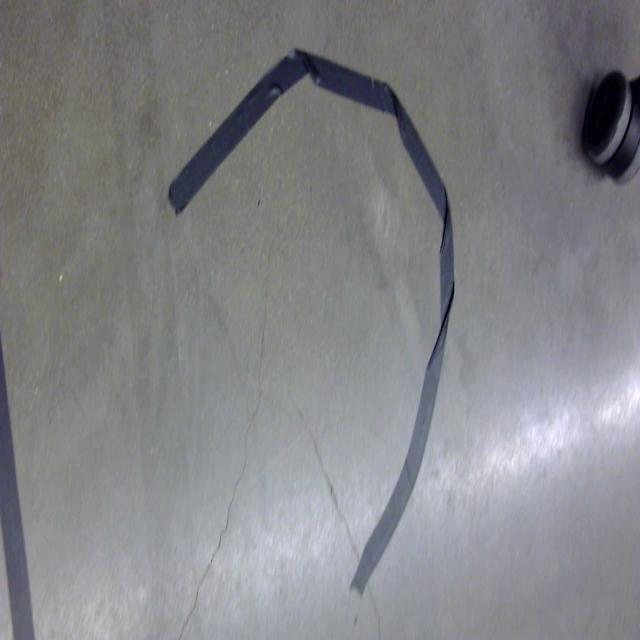tape: (168, 49, 455, 589), (0, 331, 38, 640)
